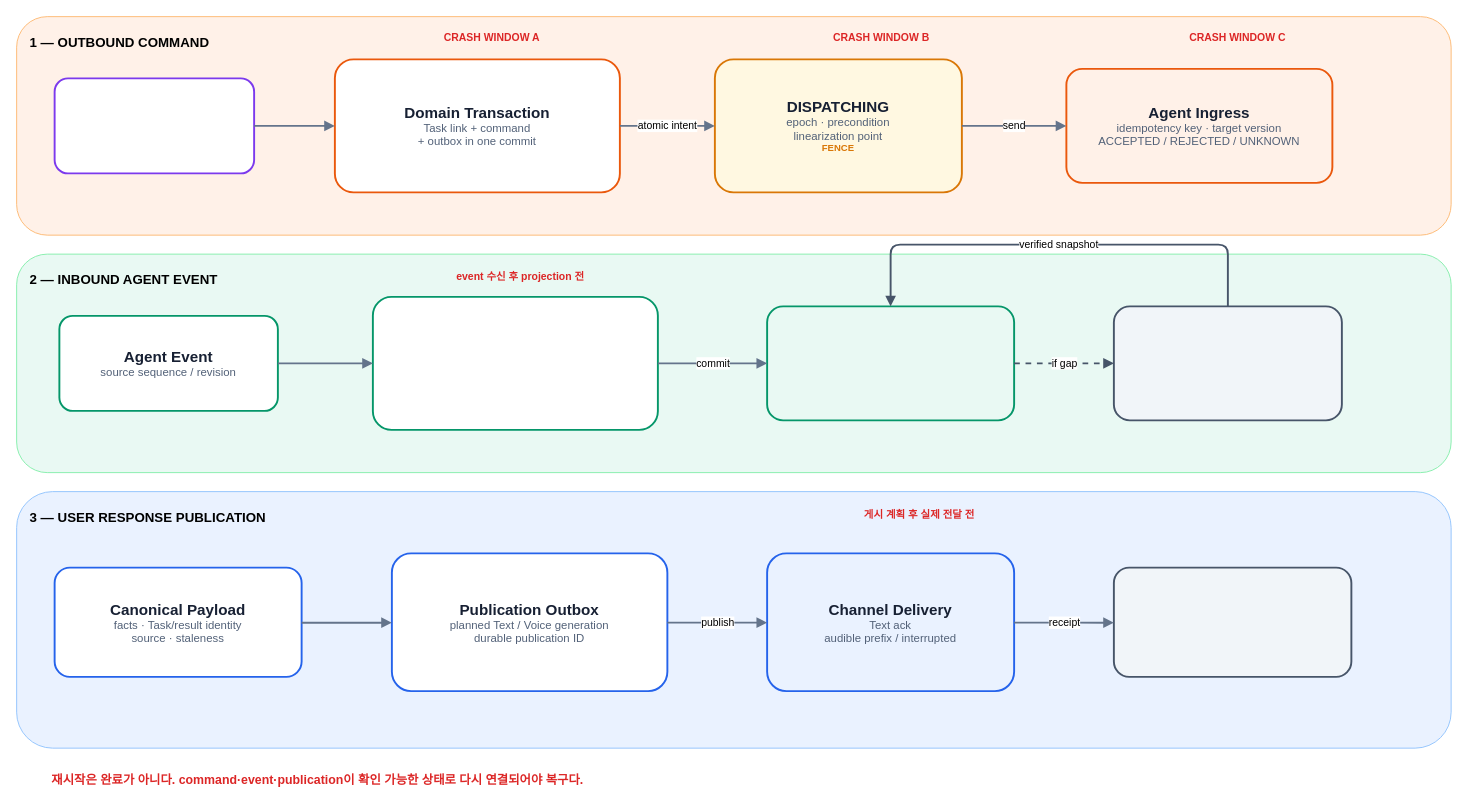
This 1468x807 diagram has some shape labels left out. Here are the shapes that lost their labels. From the top down, the centre of each, then its label:
At point (154, 125): "Semantic Commit immutable revision vector".
At point (514, 362): "Durable Inbox dedupe + source cursor + Task projection transaction".
At point (890, 363): "Task Projection source-confirmed state question lifecycle".
At point (1227, 363): "Reconciliation gap · reconnect · restart snapshot query".
At point (1232, 621): "Conversation Record 사용자가 실제 접한 내용 후속 referent의 근거".
